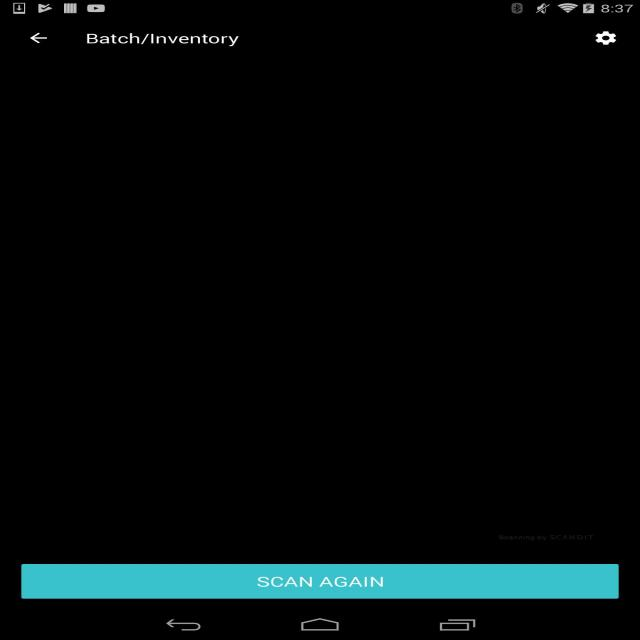button: (24, 564, 619, 598), (587, 25, 628, 50), (18, 27, 61, 49)
heading: (80, 27, 249, 52)
